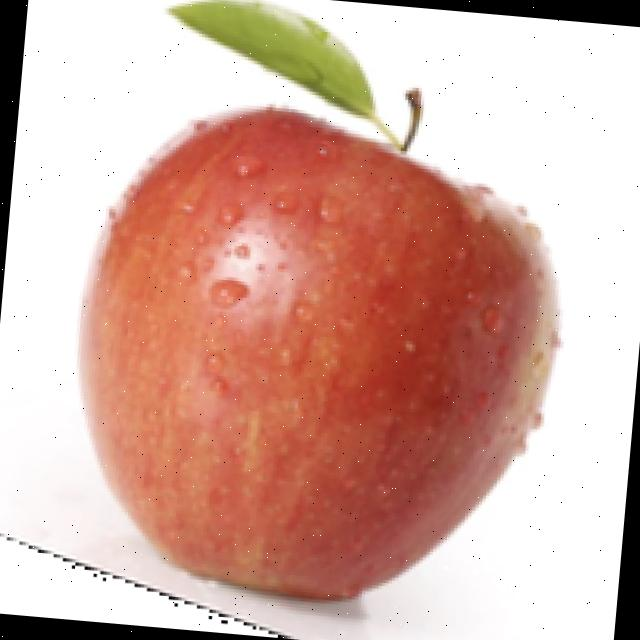apple: (49, 0, 566, 640)
